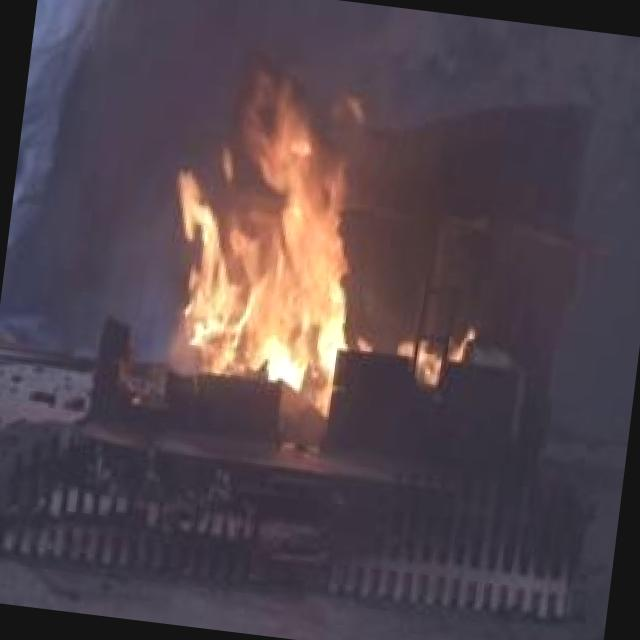fire: (115, 61, 414, 414)
